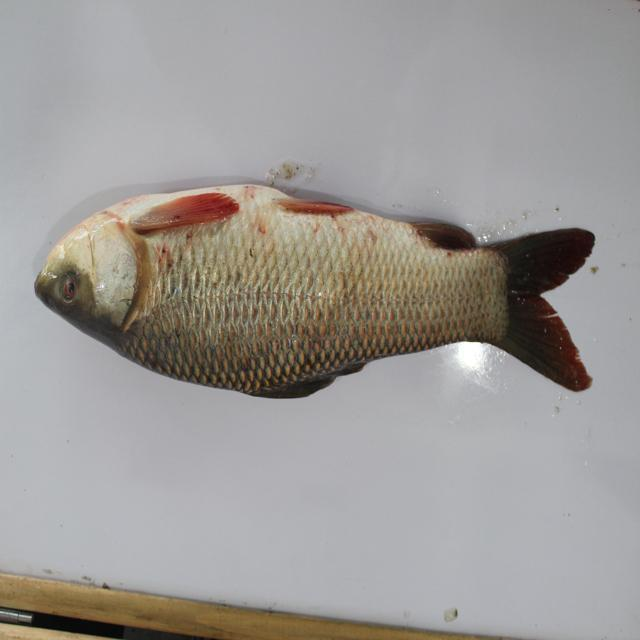Rohu: (35, 173, 596, 411)
